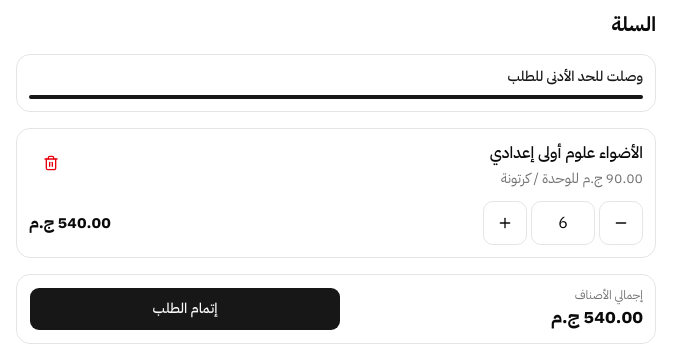
Test: CartView › changing a quantity › waits for the taps to stop, then sends one update
Click the button named "زيادة الكمية": (505, 223) [483,201,527,245]
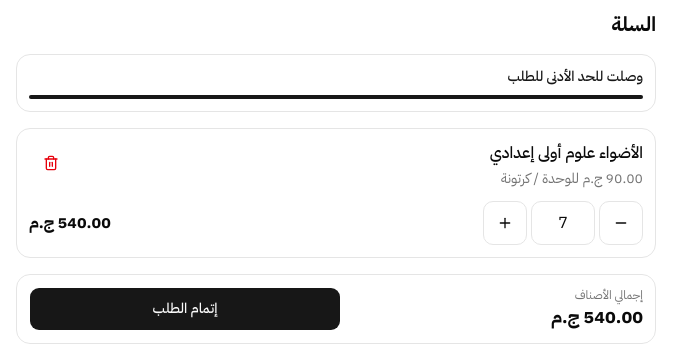
Click the button named "زيادة الكمية": (505, 223) [483,201,527,245]
Wait 400 ms
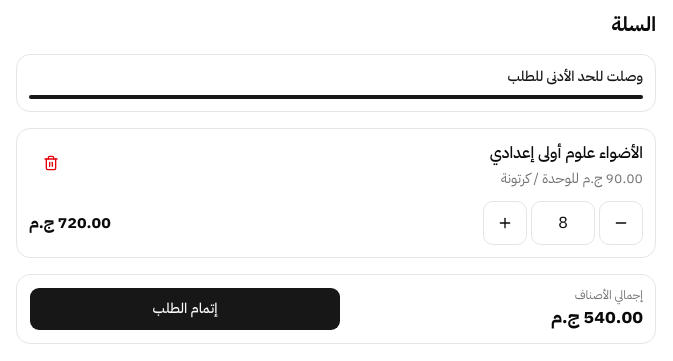
Result: the number field named "الكمية" holds "8" at [531,201,595,245]
Result: the text "720.00 ج.م" is shown at [29,211,111,235]
